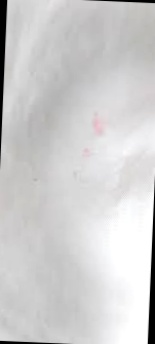lipstick: (88, 109, 107, 139), (79, 146, 93, 160)
